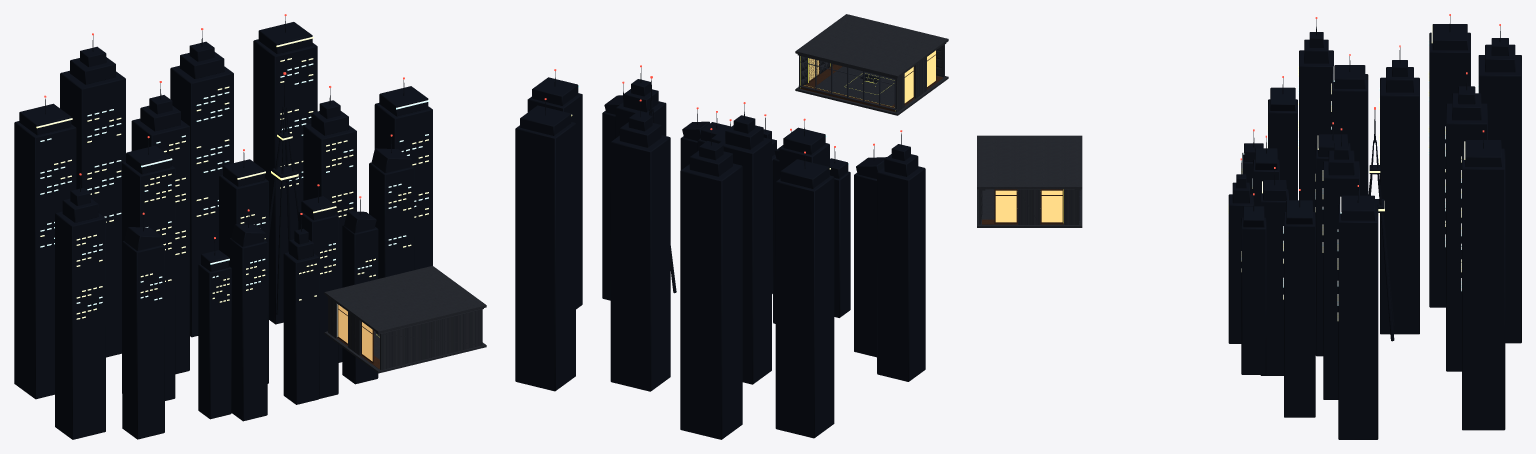
The model's file is tokyo_pavilion_room.glb.
3 views of the same model, side by side, from view 1: azimuth 30°, elevation 25°; view 2: azimuth 150°, elevation 25°; view 3: azimuth 270°, elevation 25° (orthographic). The views are drawn at different scales.
Visible parts, largest first — view 1: Tokyo_Skyline_Towers, Tokyo_Ceiling_Plenum, Tokyo_Origami_WallPanels, Tokyo_Skyline_WinWarm, Tokyo_Skyline_WinCool, Tokyo_Floor_Slate, Tokyo_Kumiko_WashiPanels; view 2: Tokyo_Skyline_Towers, Tokyo_Ceiling_Plenum, Tokyo_Floor_Slate, Tokyo_Origami_WallPanels, Tokyo_CurtainWall_Mullions, Tokyo_Kumiko_WashiPanels, Tokyo_Floor_TimberDeck; view 3: Tokyo_Skyline_Towers, Tokyo_Ceiling_Plenum, Tokyo_Origami_WallPanels, Tokyo_Kumiko_WashiPanels, Tokyo_Floor_Slate, Tokyo_Skyline_WinWarm.
Boxes of the visible parts, x1,y1,x2,y2 form: Tokyo_Skyline_Towers: (14,16,432,439); Tokyo_Ceiling_Plenum: (324,265,486,334); Tokyo_Origami_WallPanels: (328,298,482,369); Tokyo_Skyline_WinWarm: (36,36,428,319); Tokyo_Skyline_WinCool: (40,63,429,306); Tokyo_Floor_Slate: (324,331,486,373); Tokyo_Kumiko_WashiPanels: (338,305,372,361); Tokyo_Skyline_Towers: (515,67,925,439); Tokyo_Ceiling_Plenum: (795,14,948,79); Tokyo_Floor_Slate: (795,66,948,115); Tokyo_Origami_WallPanels: (799,44,944,112); Tokyo_CurtainWall_Mullions: (798,55,896,110); Tokyo_Kumiko_WashiPanels: (809,50,935,102); Tokyo_Floor_TimberDeck: (800,64,942,111); Tokyo_Skyline_Towers: (1228,16,1521,439); Tokyo_Ceiling_Plenum: (977,135,1082,190); Tokyo_Origami_WallPanels: (978,189,1079,224); Tokyo_Kumiko_WashiPanels: (995,190,1062,222); Tokyo_Floor_Slate: (977,189,1082,227); Tokyo_Skyline_WinWarm: (1228,25,1478,320).
Bounding box in the file's own units: 51.4 × 40.79 × 65.25.
Materials: 14 (4 with a texture image).
